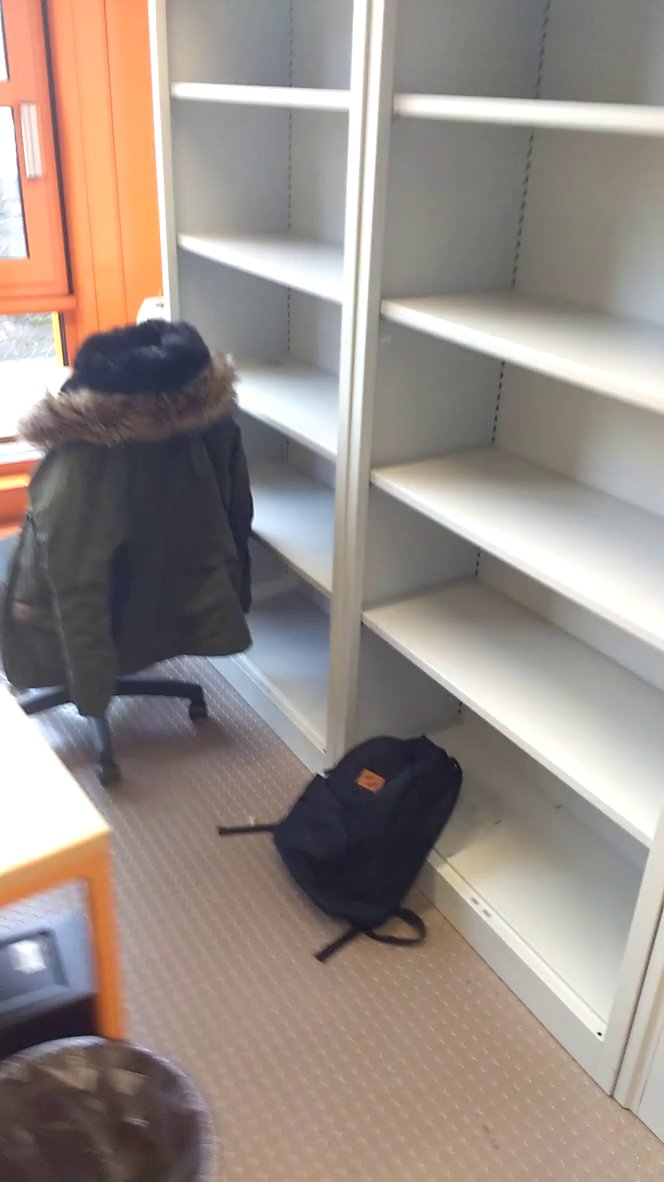bag: (266, 724, 466, 964)
